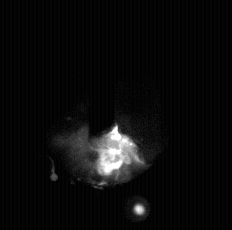arame: (89, 0, 116, 139)
poca: (64, 0, 157, 230)
